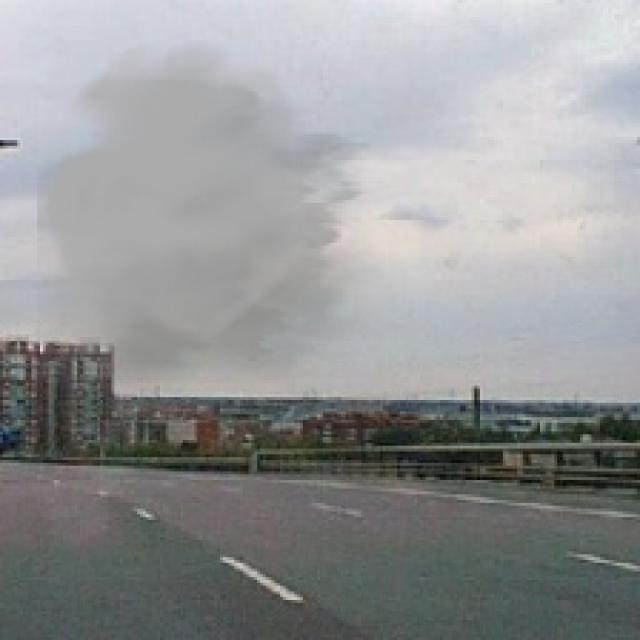Smoke: (37, 40, 406, 403)
